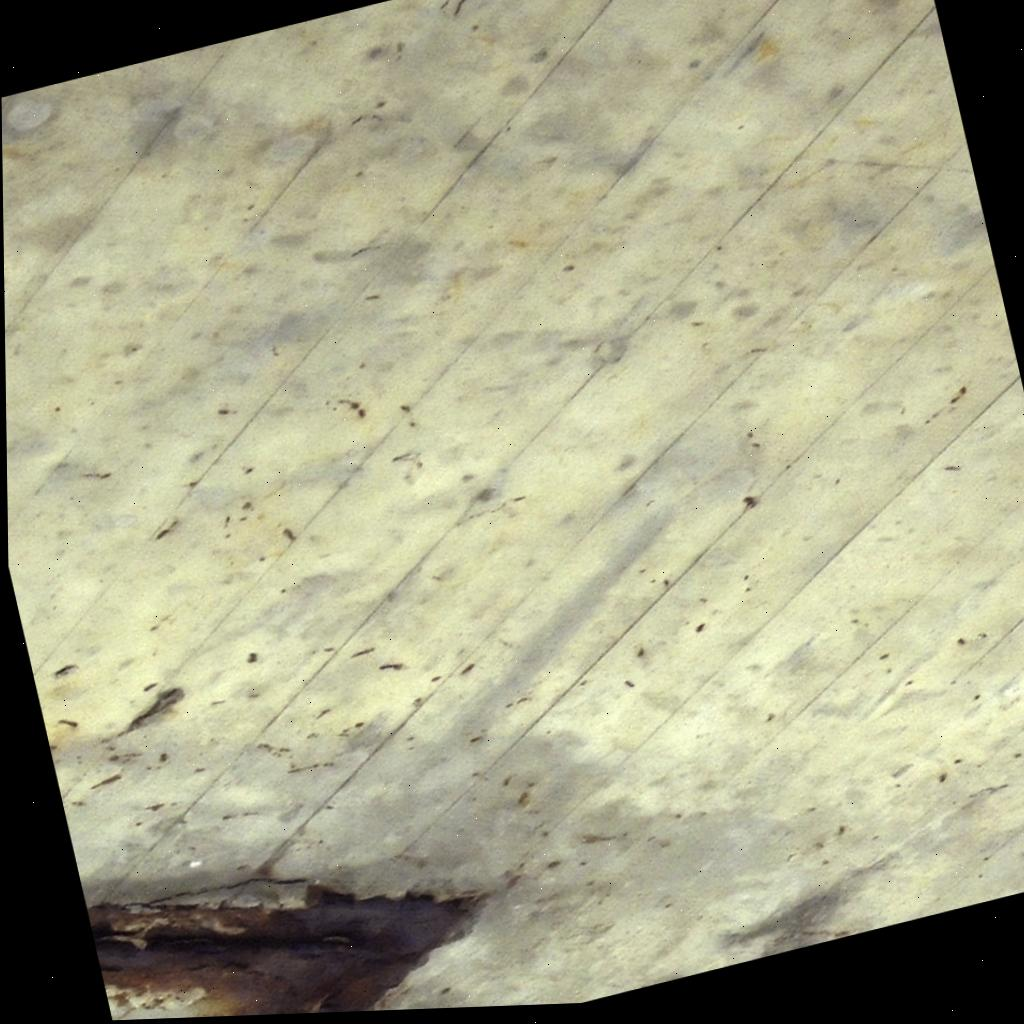exposed_rebar: (88, 881, 473, 1017)
